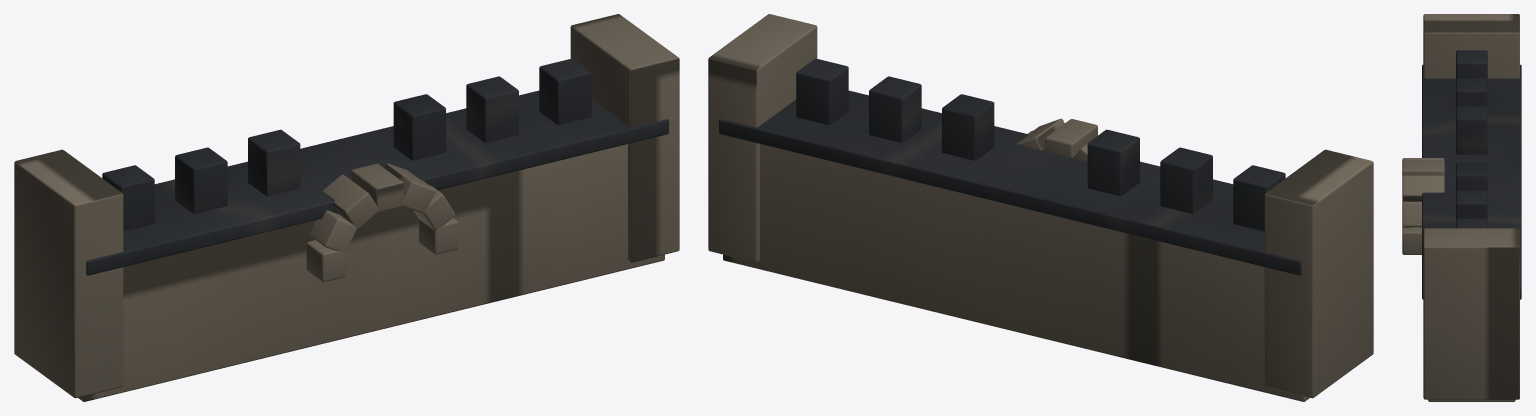
Rendered from building_stone_wall.fbx.
3 views of the same model, side by side, from view 1: azimuth 30°, elevation 25°; view 2: azimuth 150°, elevation 25°; view 3: azimuth 270°, elevation 25° (orthographic). The views are drawn at different scales.
Parts seen in each view (by area): view 1: building_stone_wall; view 2: building_stone_wall; view 3: building_stone_wall.
Part boxes in pixels (<box>): building_stone_wall: <box>14,14,679,401</box>; building_stone_wall: <box>708,14,1373,401</box>; building_stone_wall: <box>1402,14,1521,401</box>.
Size of the model in its own units: 9.15 by 2.93 by 1.97.
